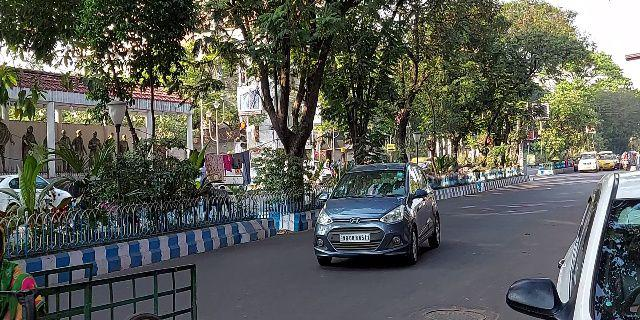Car: (495, 161, 640, 320), (310, 161, 444, 271)
